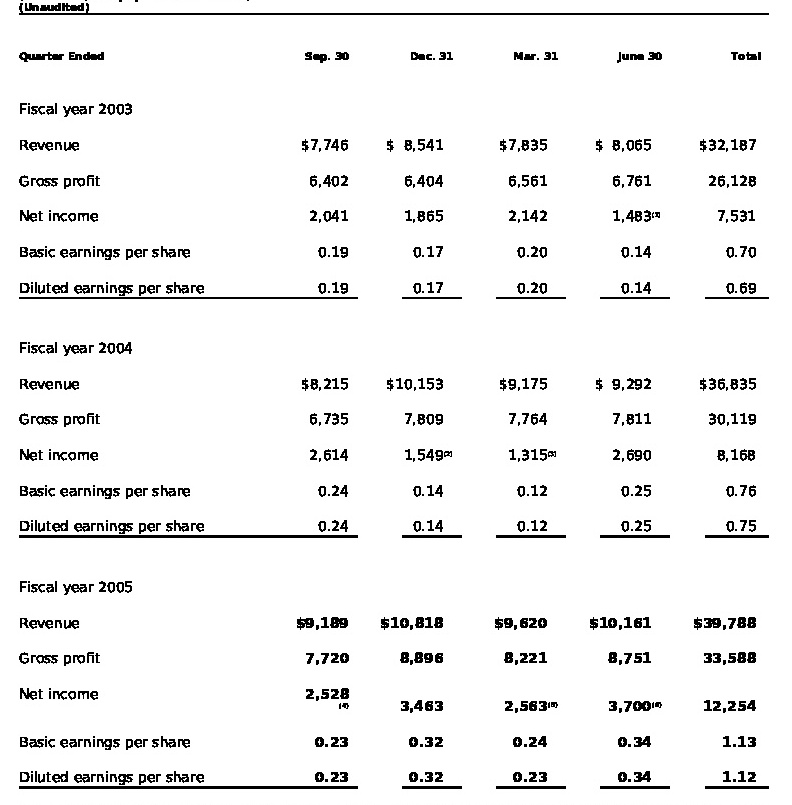table: (0, 0, 792, 805)
